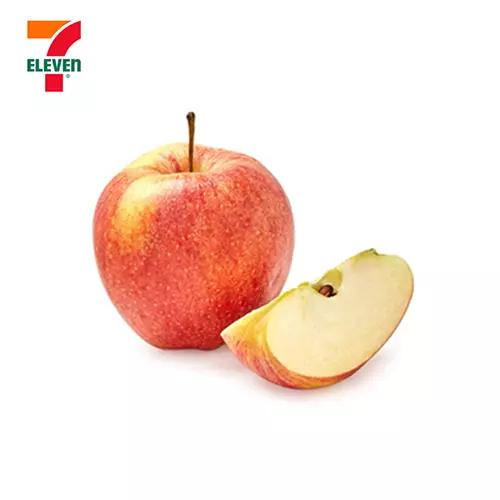apples: (84, 104, 284, 370), (214, 224, 418, 421)
